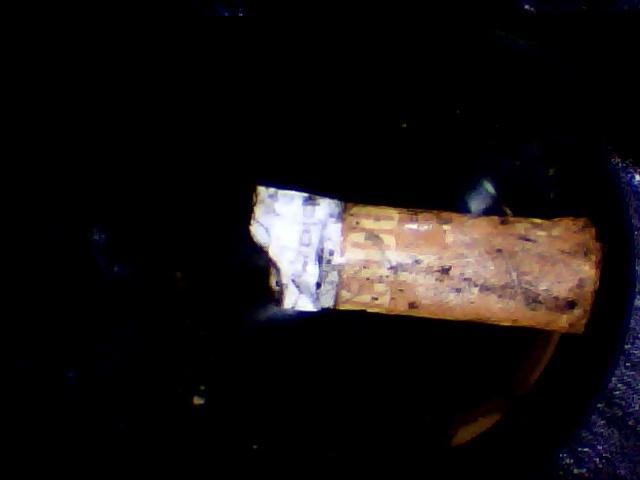megot: (225, 167, 609, 351)
